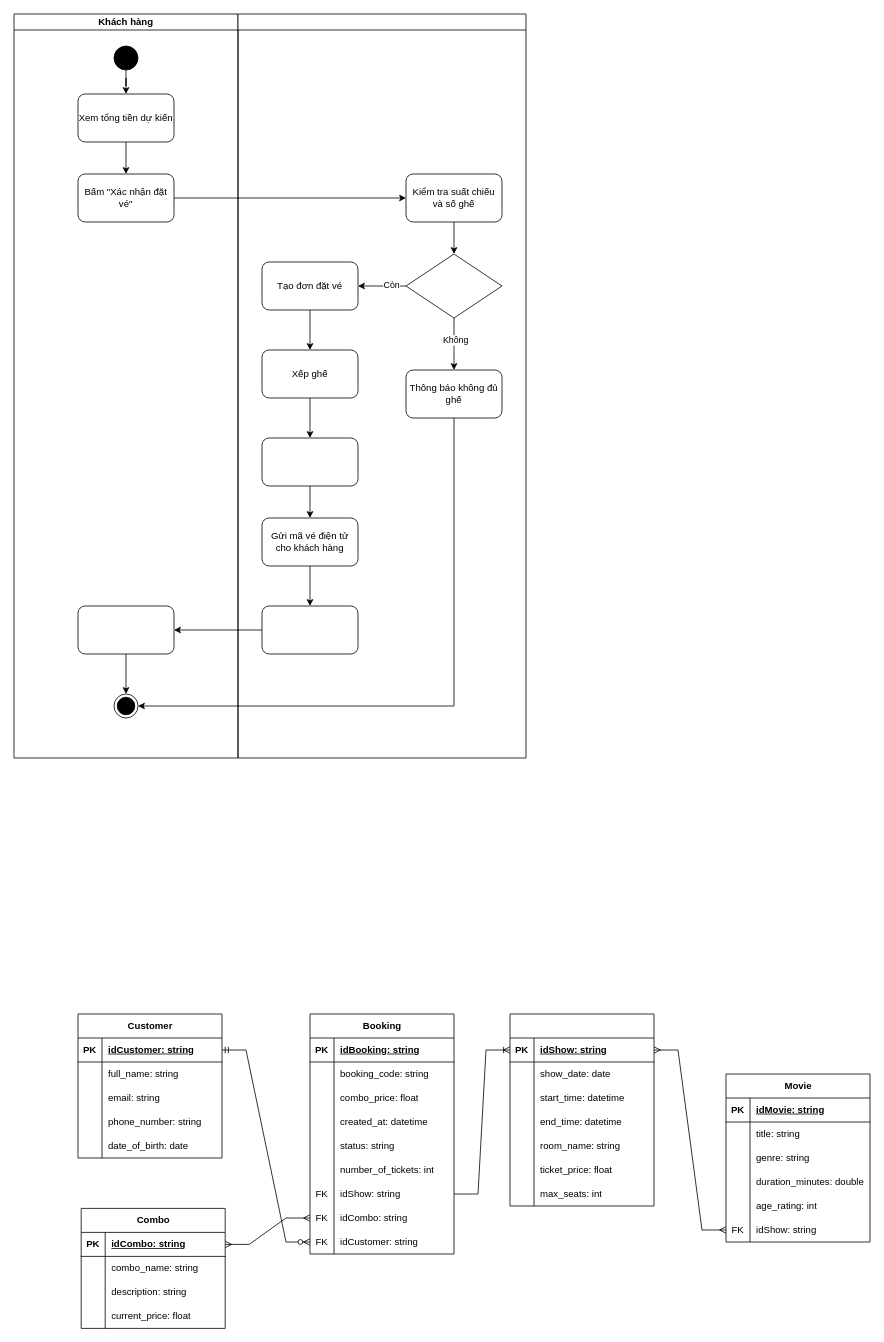
The diagram is 884 pixels wide and 1342 high, and some of its shapes have lost their labels. The shapes that lost their labels are listed below. From the top down, each one's box as (x1, y1, x2, y2) in pixels, then its label:
(405, 253, 502, 318): Còn ghế
(237, 13, 526, 758): Hệ thống
(261, 437, 358, 486): Tạo mã vé điện tử
(77, 605, 174, 654): Kiểm tra vé điện tử
(261, 605, 358, 654): Hiên thị thông báo đặt vé thành công
(509, 1013, 654, 1206): Showtime
